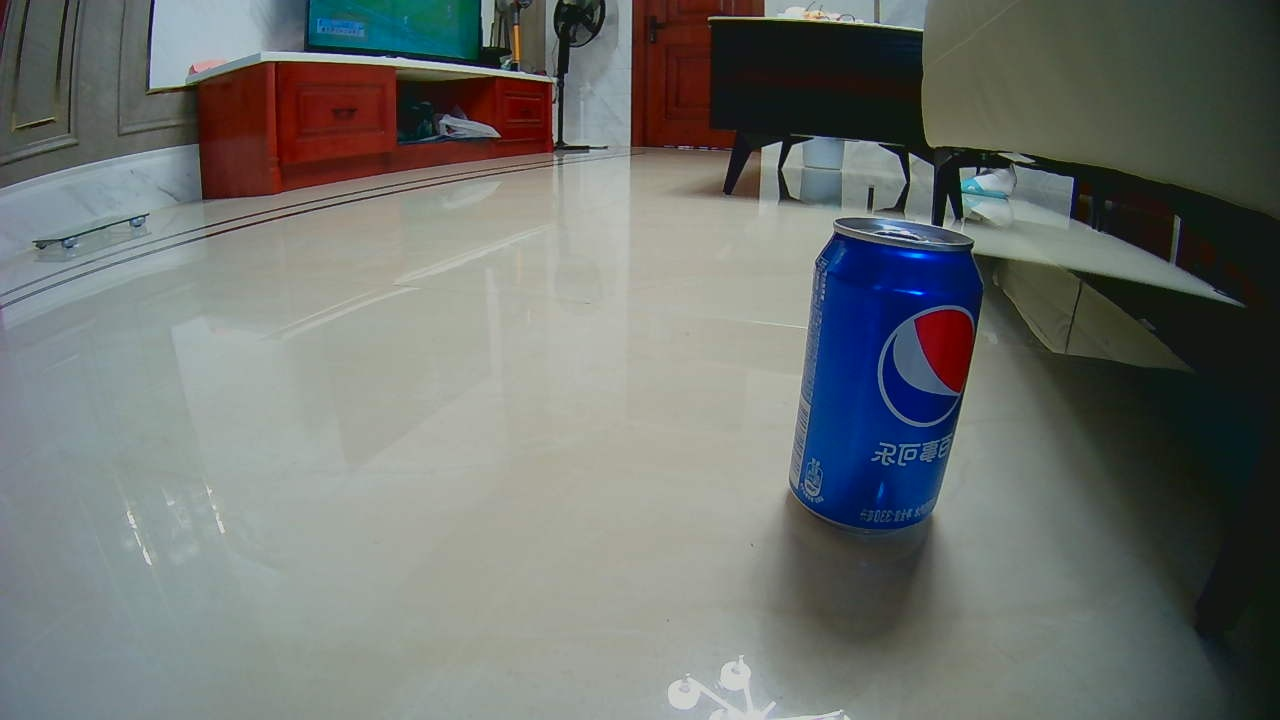pessi: (802, 210, 969, 543)
